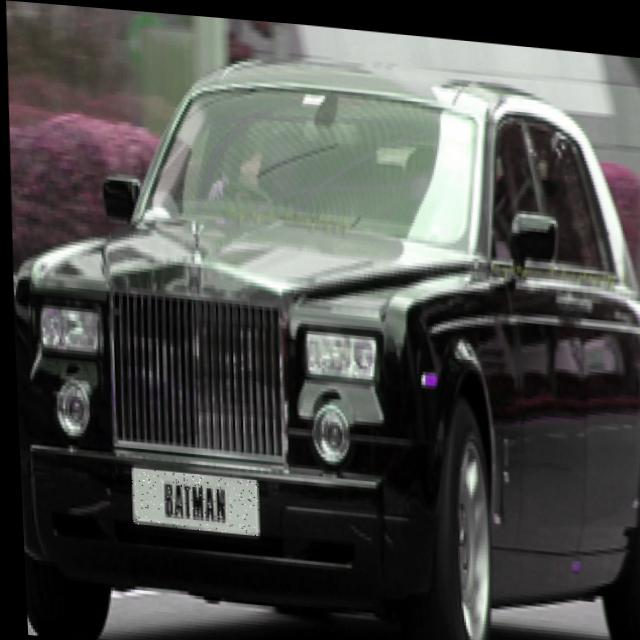license_plate: (126, 466, 256, 532)
